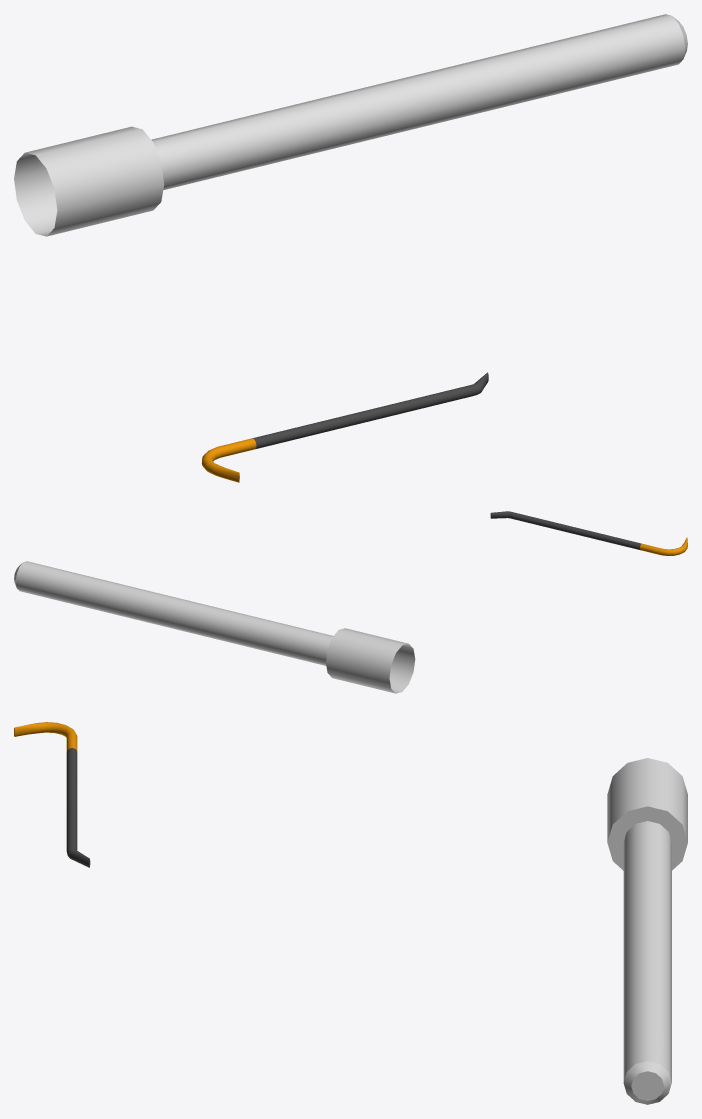
Rendered from ClimbingProps.fbx.
3 renders of one model, top to bottom at view 1: azimuth 30°, elevation 25°; view 2: azimuth 150°, elevation 25°; view 3: azimuth 270°, elevation 25°, orthographic. The views are drawn at different scales.
Visible parts, largest first — view 1: ClimbPole, Crowbar; view 2: ClimbPole, Crowbar; view 3: ClimbPole, Crowbar.
Part boxes in pixels (x1,y1,x2,y2): ClimbPole: (14, 14, 687, 236); Crowbar: (201, 372, 488, 482); ClimbPole: (14, 561, 415, 693); Crowbar: (490, 511, 687, 555); ClimbPole: (607, 758, 687, 1104); Crowbar: (14, 722, 90, 867).
Size of the model in its own units: 148 by 14 by 117.
